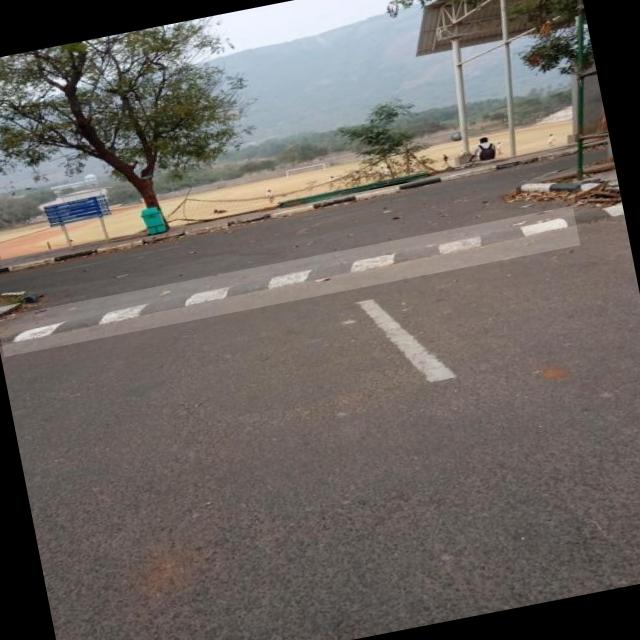bump: (0, 206, 580, 357)
